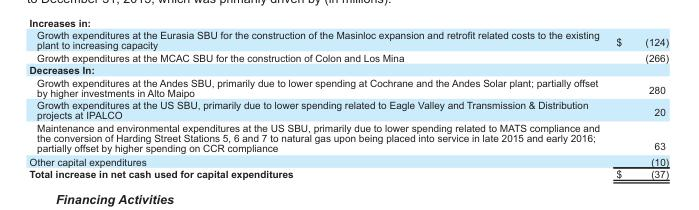table: (28, 29, 668, 179)
table column: (28, 29, 607, 179), (607, 29, 668, 179)
table projected row header: (28, 63, 668, 75)
table row: (28, 121, 668, 154), (28, 75, 668, 98), (28, 98, 668, 121), (28, 29, 668, 50), (28, 50, 668, 63), (28, 154, 668, 167), (28, 63, 668, 75), (28, 167, 668, 179)
